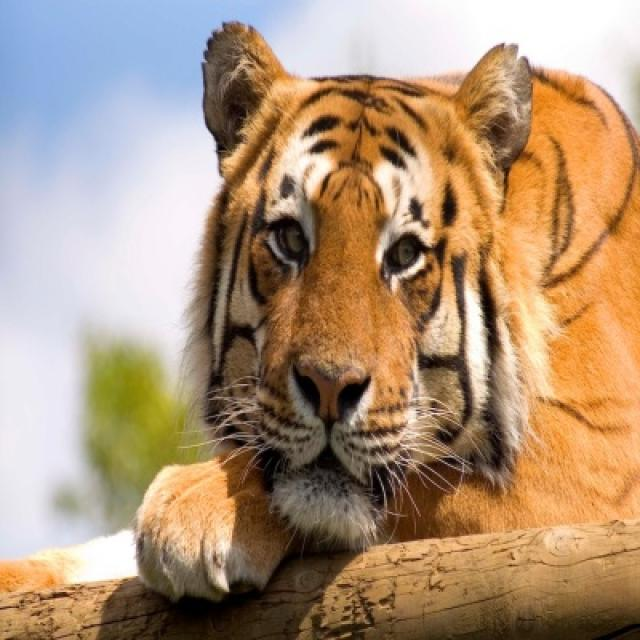Tiger: (134, 22, 638, 600)
